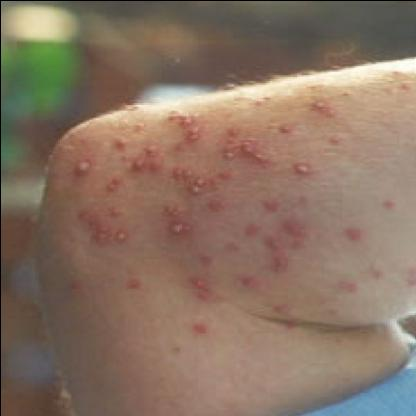Fire ant: (212, 125, 274, 191), (102, 122, 166, 171), (70, 202, 136, 247), (266, 217, 309, 271), (177, 249, 217, 304), (166, 106, 201, 151), (157, 199, 192, 239), (169, 163, 209, 195), (268, 298, 304, 332), (385, 63, 415, 101), (306, 90, 340, 121), (182, 311, 209, 341), (234, 269, 264, 293), (122, 270, 146, 294), (201, 197, 237, 213), (76, 150, 96, 178), (256, 195, 284, 213), (288, 158, 316, 176), (238, 94, 274, 108), (342, 225, 364, 245), (102, 174, 126, 192), (275, 119, 296, 138), (338, 276, 360, 294), (324, 132, 348, 148), (62, 274, 82, 293), (222, 236, 240, 256), (242, 220, 259, 241), (380, 196, 398, 212), (404, 265, 416, 285)
